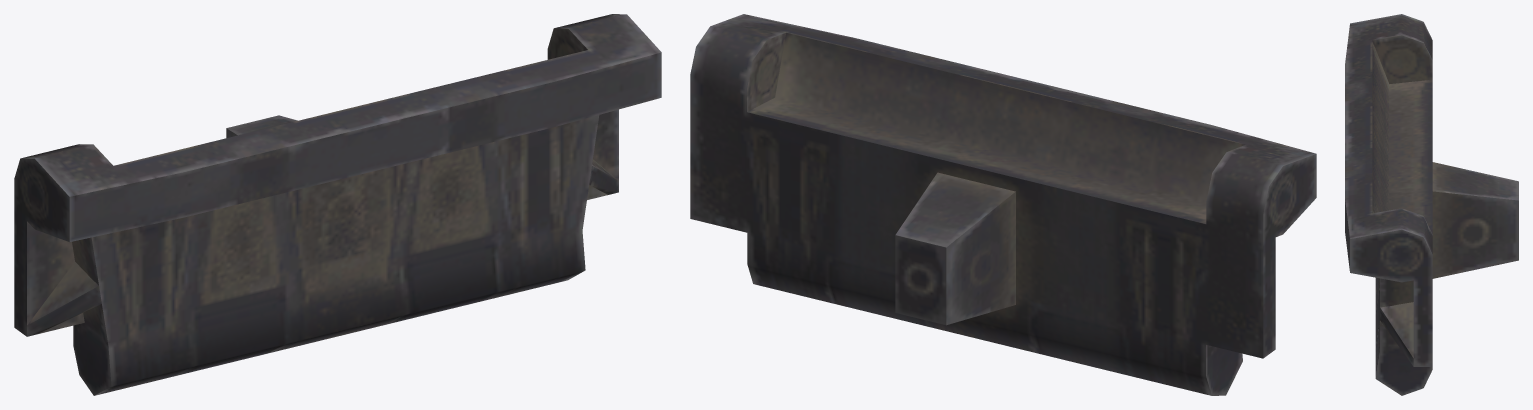
The picture shows the model from 3 angles, left to right: view 1: azimuth 30°, elevation 25°; view 2: azimuth 150°, elevation 25°; view 3: azimuth 270°, elevation 25°; orthographic projection. The views are drawn at different scales.
Parts seen in each view (by area): view 1: set_0_group_0; view 2: set_0_group_0; view 3: set_0_group_0.
Boxes of the visible parts, x1,y1,x2,y2 form: set_0_group_0: (14,14,661,395); set_0_group_0: (690,14,1316,395); set_0_group_0: (1345,14,1518,395).
Bounding box in the file's own units: 0.29 × 0.1177 × 0.0988.
Materials: 1 (1 with a texture image).
